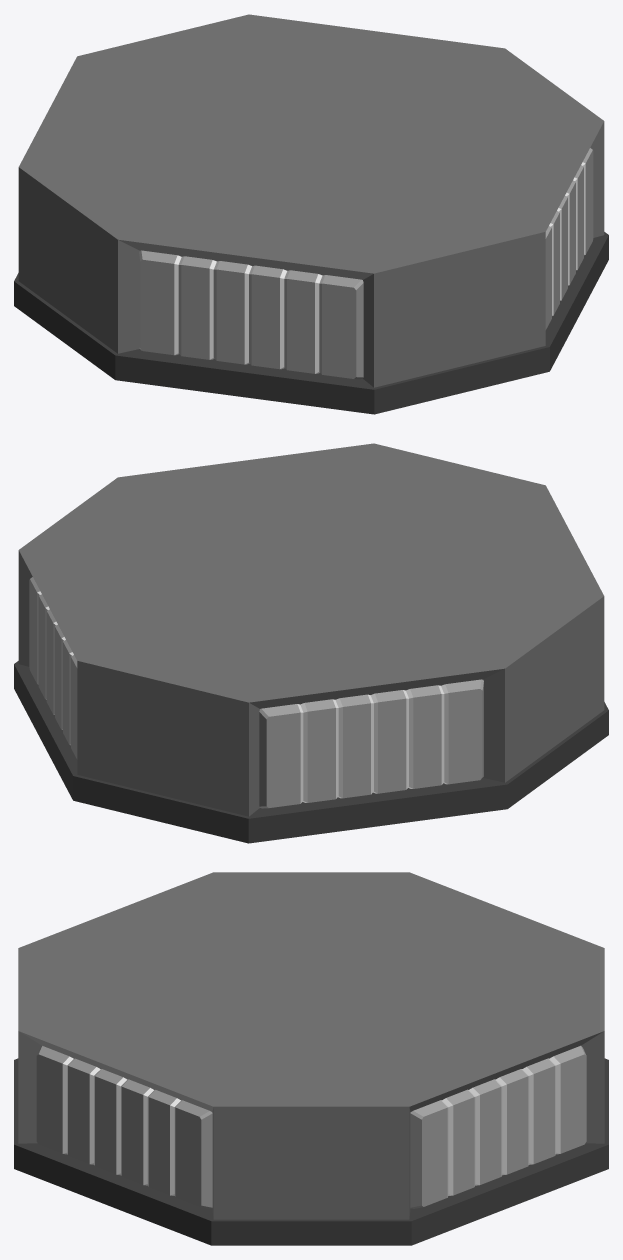
Rendered from platform_004.fbx.
3 renders of one model, top to bottom at view 1: azimuth 30°, elevation 25°; view 2: azimuth 150°, elevation 25°; view 3: azimuth 270°, elevation 25°, orthographic.
Parts seen in each view (by area): view 1: platform_004; view 2: platform_004; view 3: platform_004.
Part boxes in pixels (<box>): platform_004: <box>14,14,608,414</box>; platform_004: <box>14,443,608,843</box>; platform_004: <box>14,872,608,1245</box>.
Bounding box in the file's own units: 1506 × 1592 × 405.
